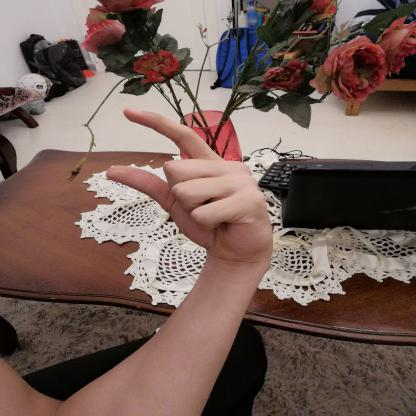DELL: (91, 102, 283, 271)
